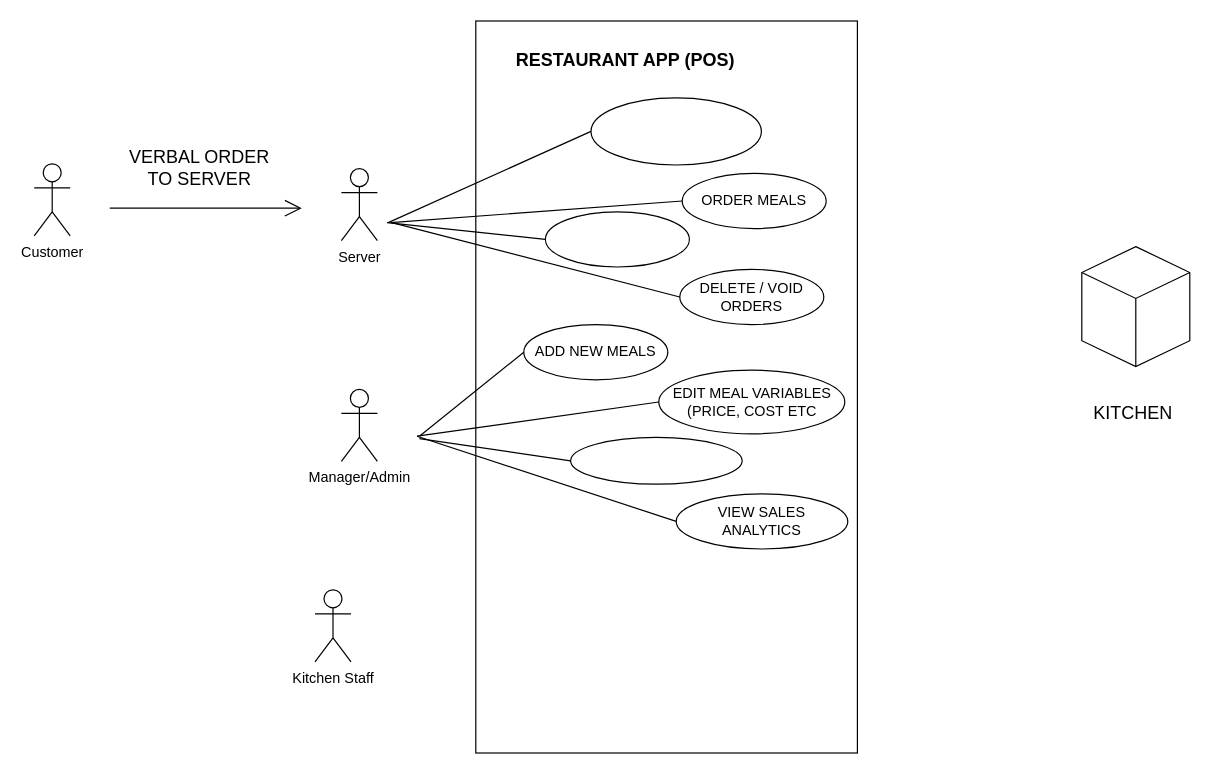
Some shapes in this 1211 by 774 pixel diagram are drawn without their labels. Each missing label, with the centre of its shape:
"DEACTIVATE MEALS" belongs at [655,460].
"EDIT ORDERS" belongs at [616,239].
"VIEW ALL ACTIVE & IN-STOCK MEALS" belongs at [675,131].
